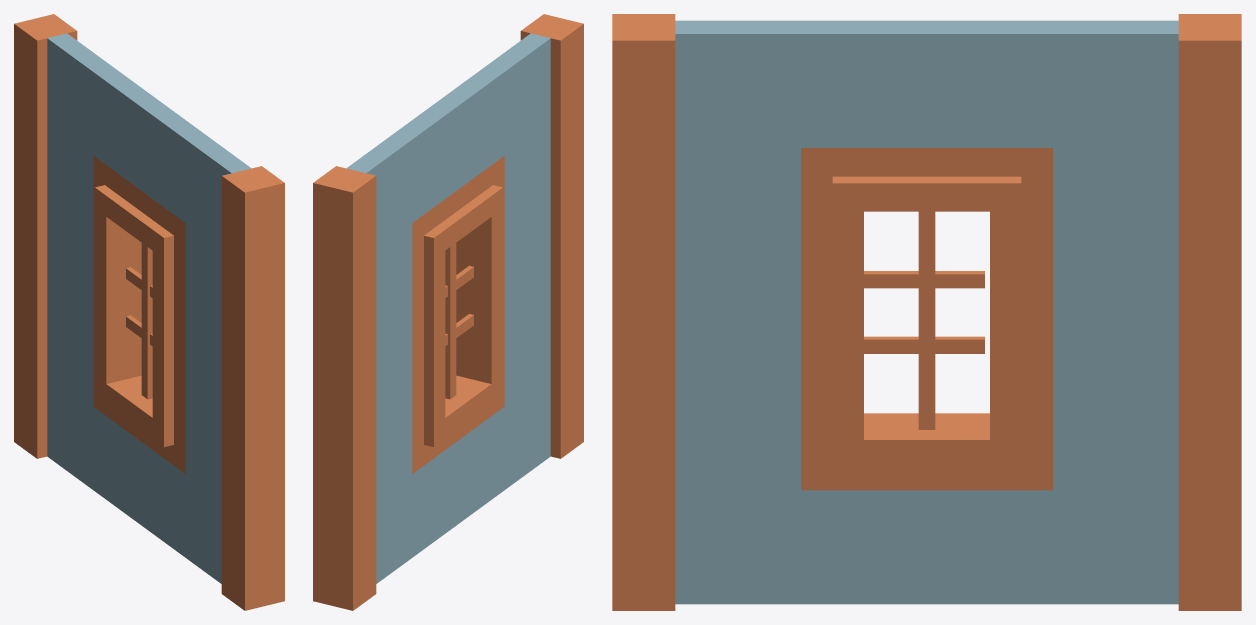
The model's file is wallWindowGlass.obj.
3 views of the same model, side by side, from view 1: azimuth 30°, elevation 25°; view 2: azimuth 150°, elevation 25°; view 3: azimuth 270°, elevation 25° (orthographic). The views are drawn at different scales.
Visible parts, largest first — view 1: wallWindowGlass, detail; view 2: wallWindowGlass, detail; view 3: wallWindowGlass, detail.
Boxes of the visible parts, x1=… form: wallWindowGlass: x1=14, y1=14, x2=284, y2=610; detail: x1=126, y1=243, x2=152, y2=399; wallWindowGlass: x1=313, y1=14, x2=583, y2=610; detail: x1=445, y1=243, x2=473, y2=399; wallWindowGlass: x1=612, y1=14, x2=1241, y2=610; detail: x1=864, y1=211, x2=984, y2=429.
Size of the model in its own units: 0.1 by 1 by 1.
